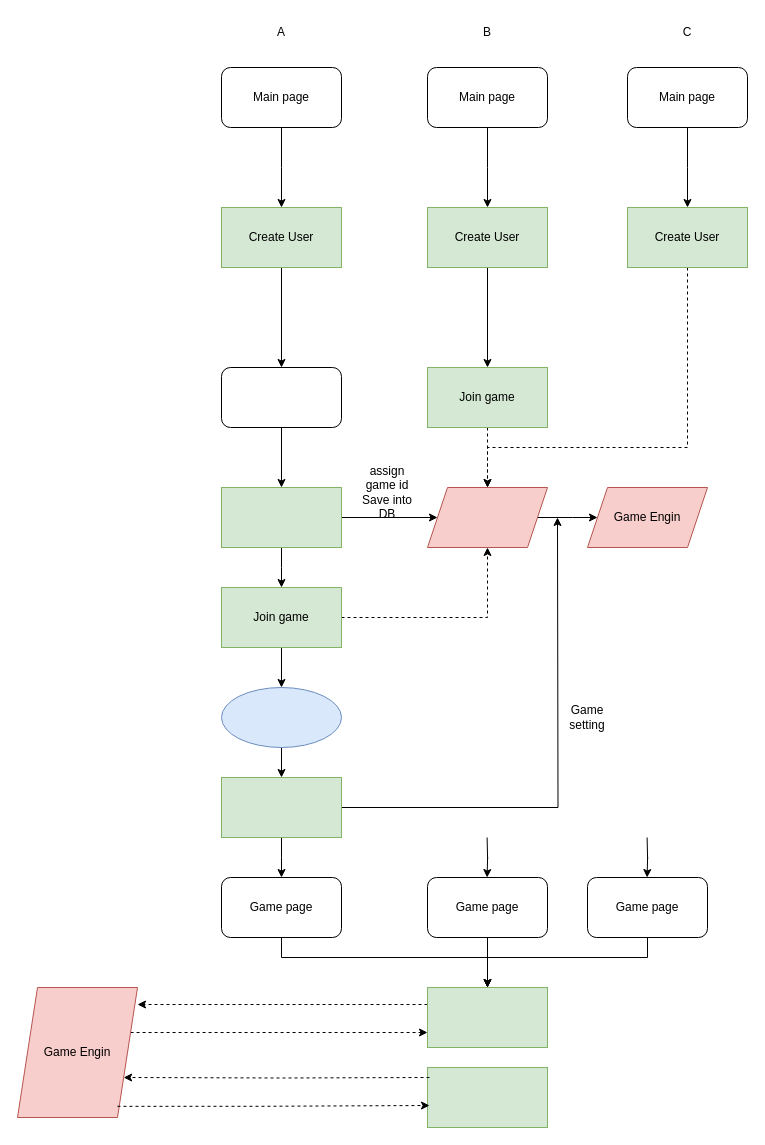
Some shapes in this 765 by 1145 pixel diagram are drawn without their labels. The shapes that lost their labels are listed below. From the top down, each one's centre as x and y in pixels, then its label:
point 281,397: custom game
point 281,517: New a game
point 487,517: Empty
point 281,717: Finish setting
point 281,807: Start Game
point 487,1017: Get View
point 487,1097: add pre-move
